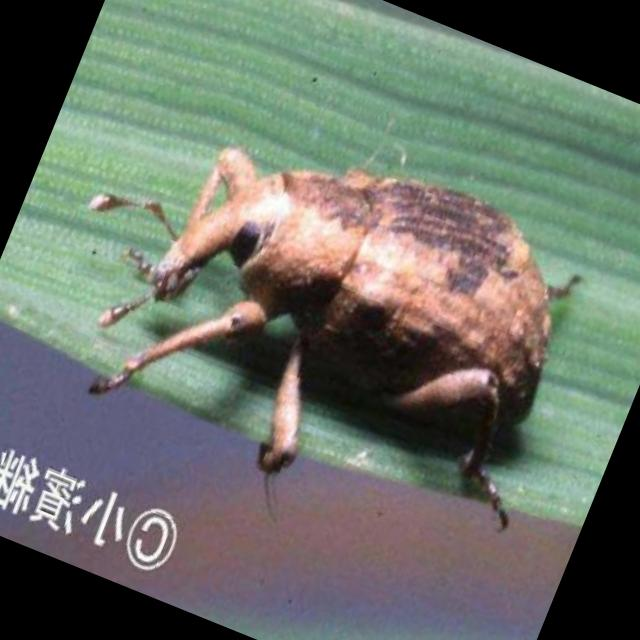rice-bug: (109, 89, 602, 522)
